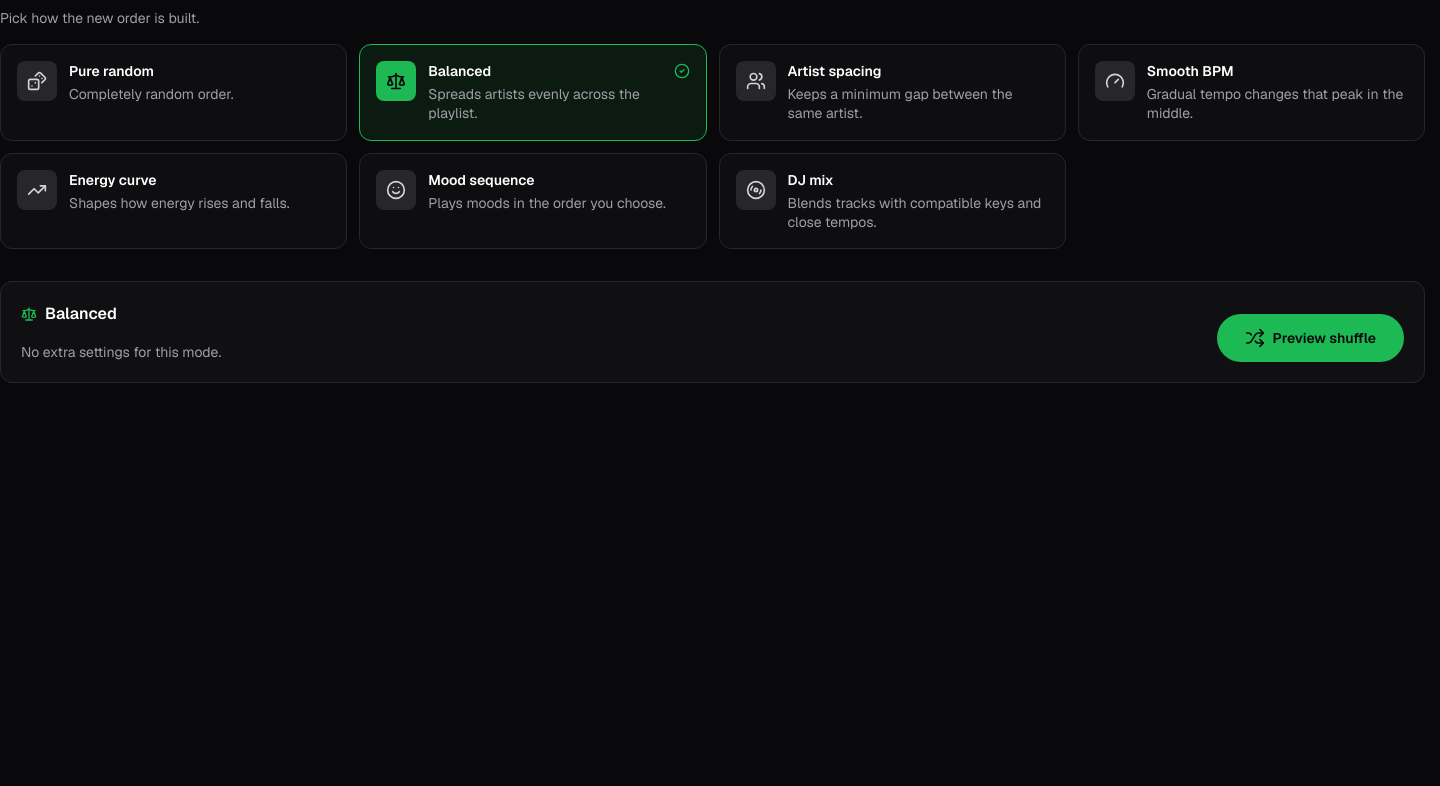
Test: ShuffleTab › saves a new playlist without reloading this one
Click the button "Preview shuffle": (1310, 338) [1216, 314, 1404, 362]
(page scrolled)
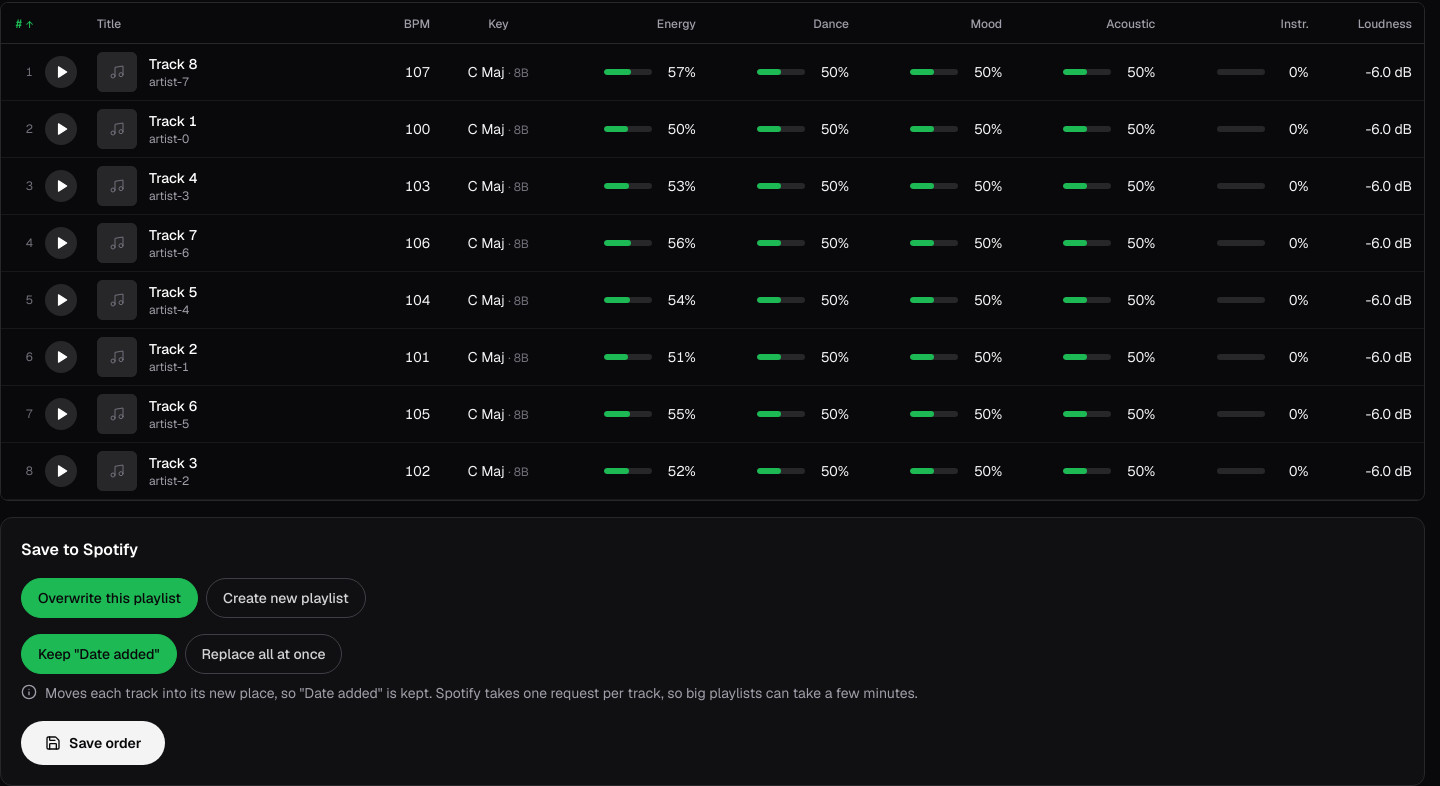
Click the button "Create new playlist": (286, 598) [206, 578, 366, 618]
(page scrolled)
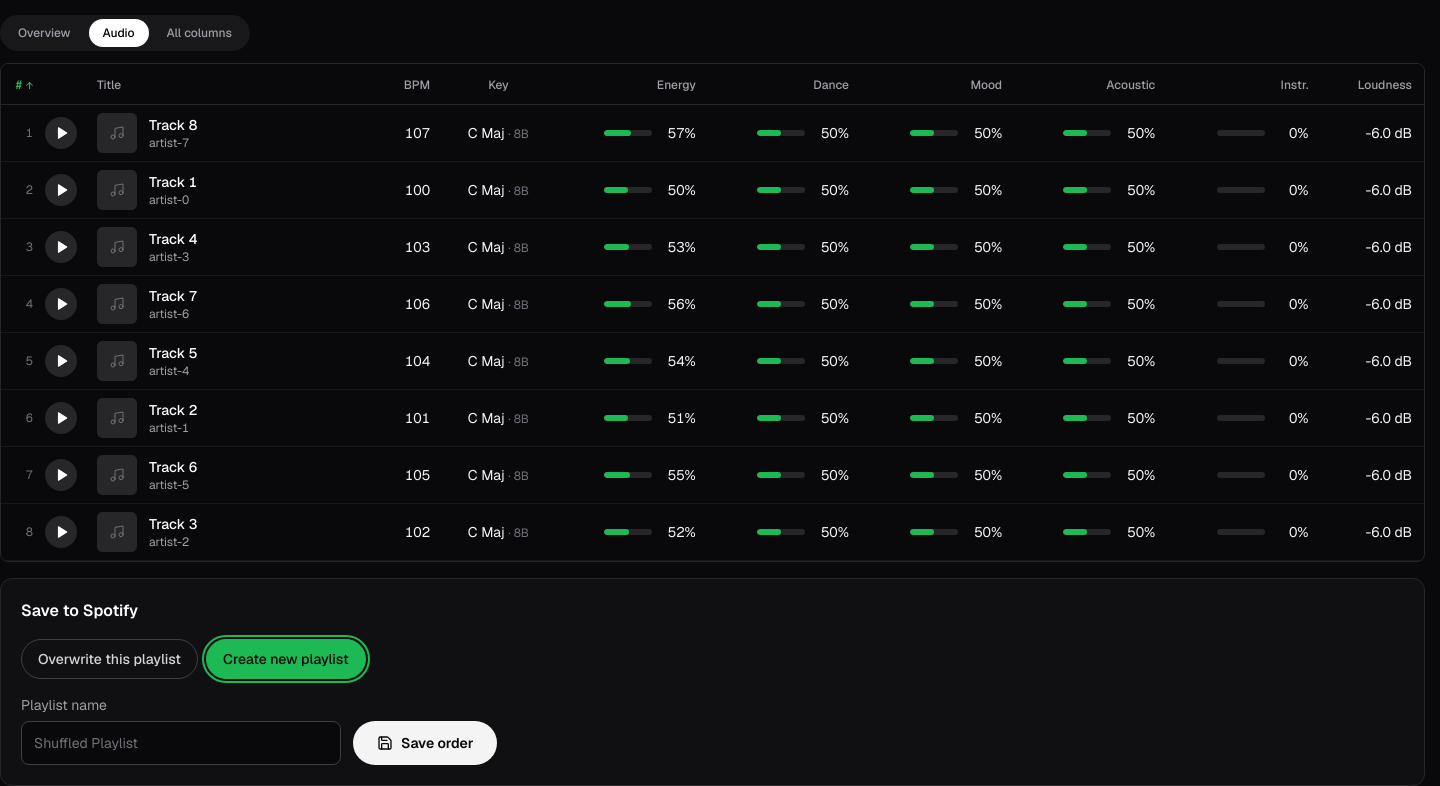
Click the button "Save order": (425, 743) [353, 721, 497, 765]
(page scrolled)
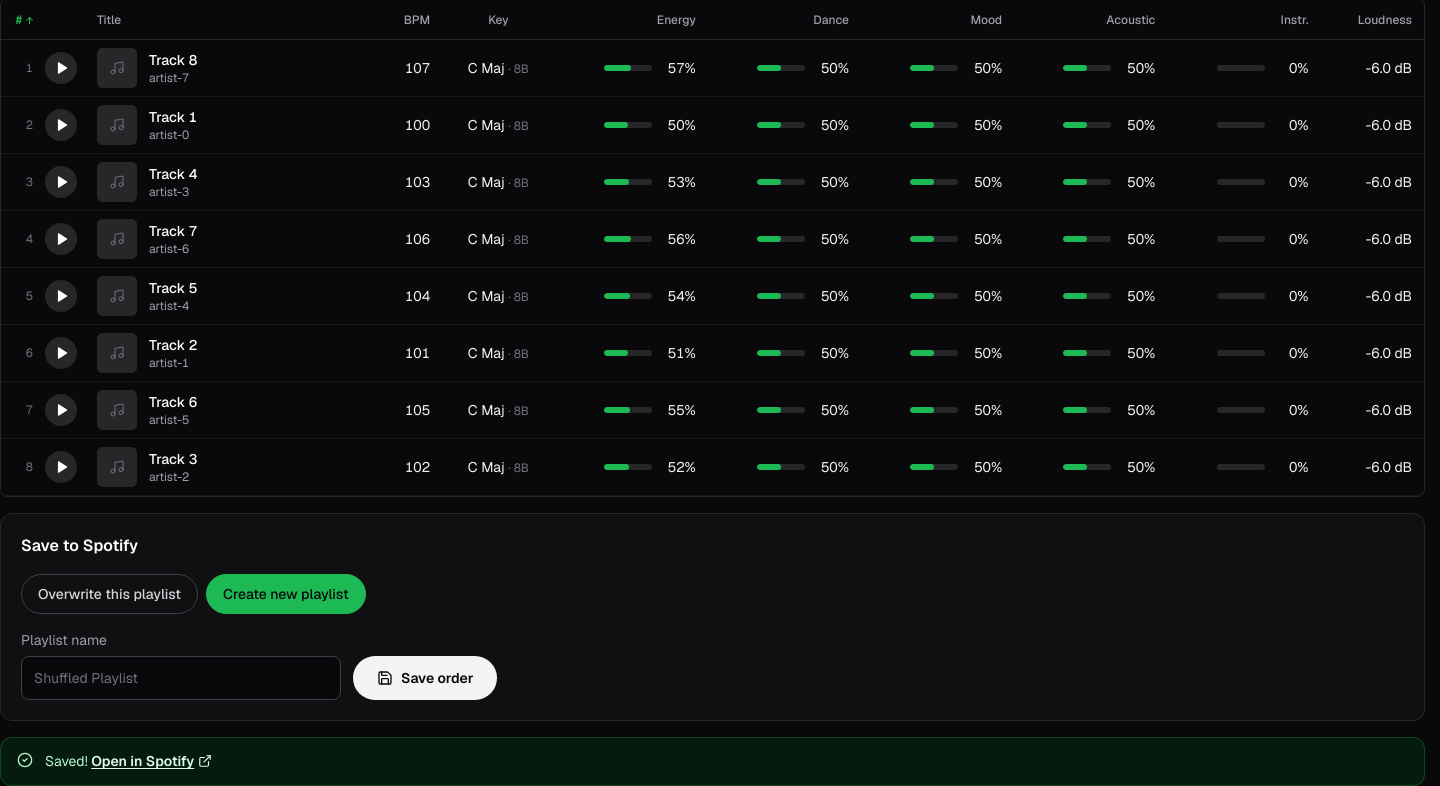
Result: the text "Saved!" is shown at [45, 752, 88, 770]
